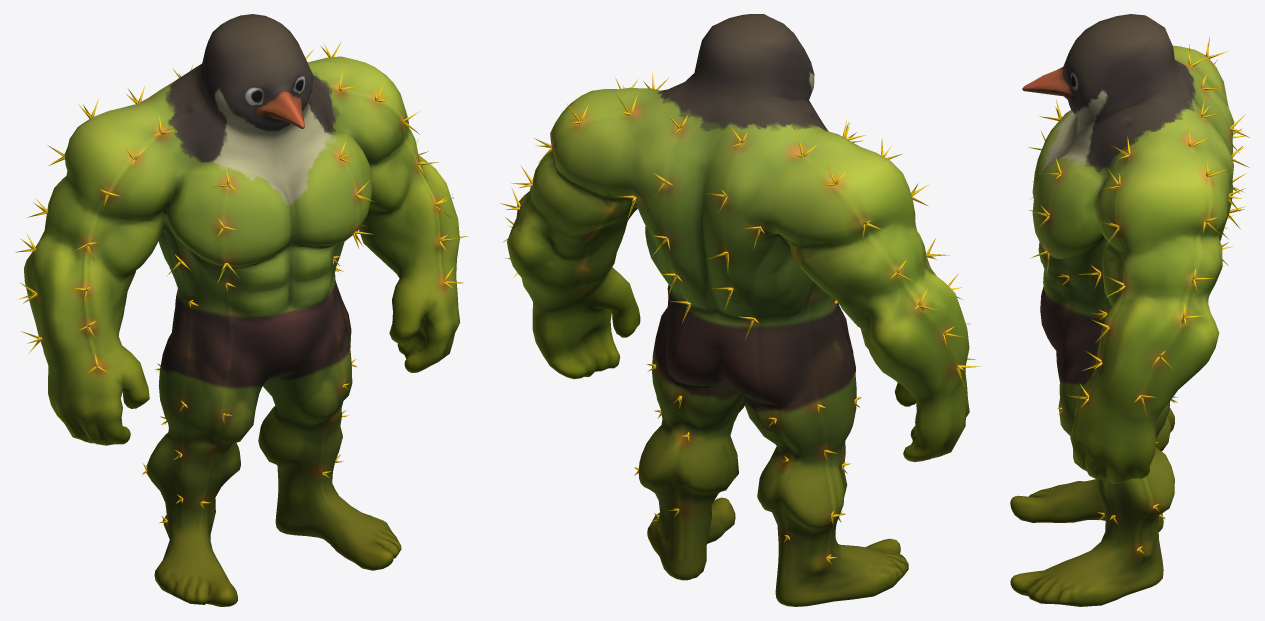
Rendered from PenguinSketchfab.fbx.
The picture shows the model from 3 angles, left to right: view 1: azimuth 30°, elevation 25°; view 2: azimuth 150°, elevation 25°; view 3: azimuth 270°, elevation 25°; orthographic projection. The views are drawn at different scales.
Visible parts, largest first — view 1: Penguini; view 2: Penguini; view 3: Penguini.
Part boxes in pixels (<box>): Penguini: <box>15,14,467,606</box>; Penguini: <box>499,14,980,606</box>; Penguini: <box>1010,14,1249,606</box>.
Size of the model in its own units: 477 by 545 by 221.
